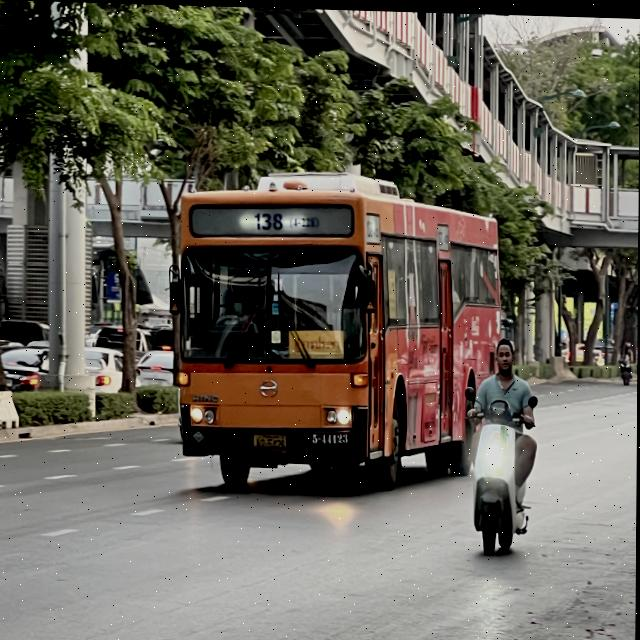BMTA-bus: (158, 158, 510, 495)
Bus-Line-Number: (248, 204, 324, 234)
Destination-Sign-Normal-Expressway: (287, 327, 348, 356)
